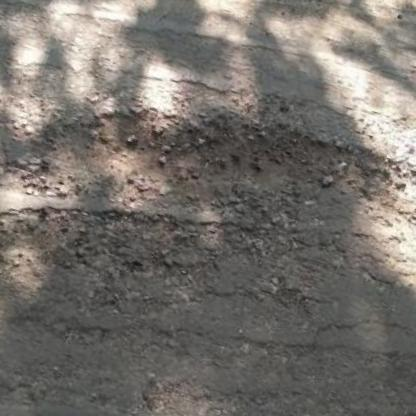pothole: (29, 46, 416, 293)
